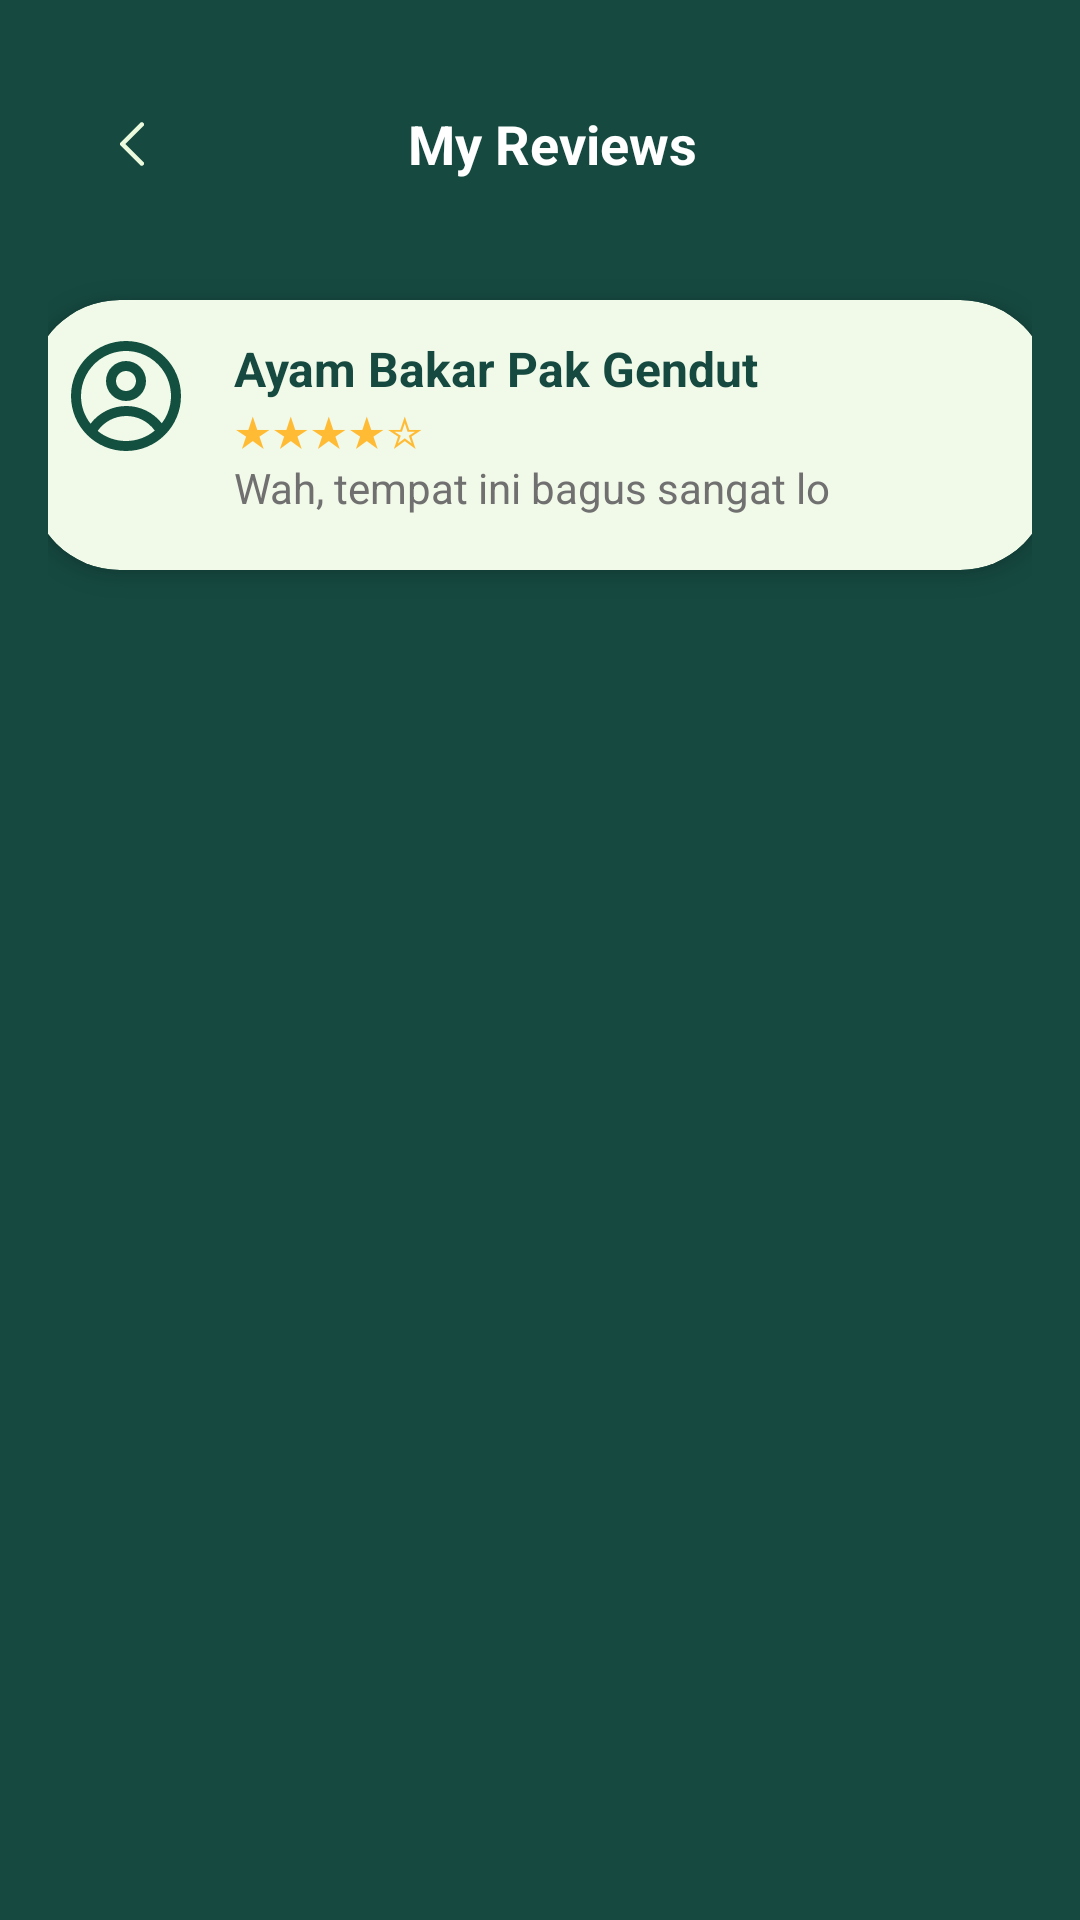

Icons on this 1080 × 1920 Android screen, each with its box as (x1, y1, x2, y2):
Back: (120, 122, 144, 166)
Profile: (71, 341, 181, 451)
